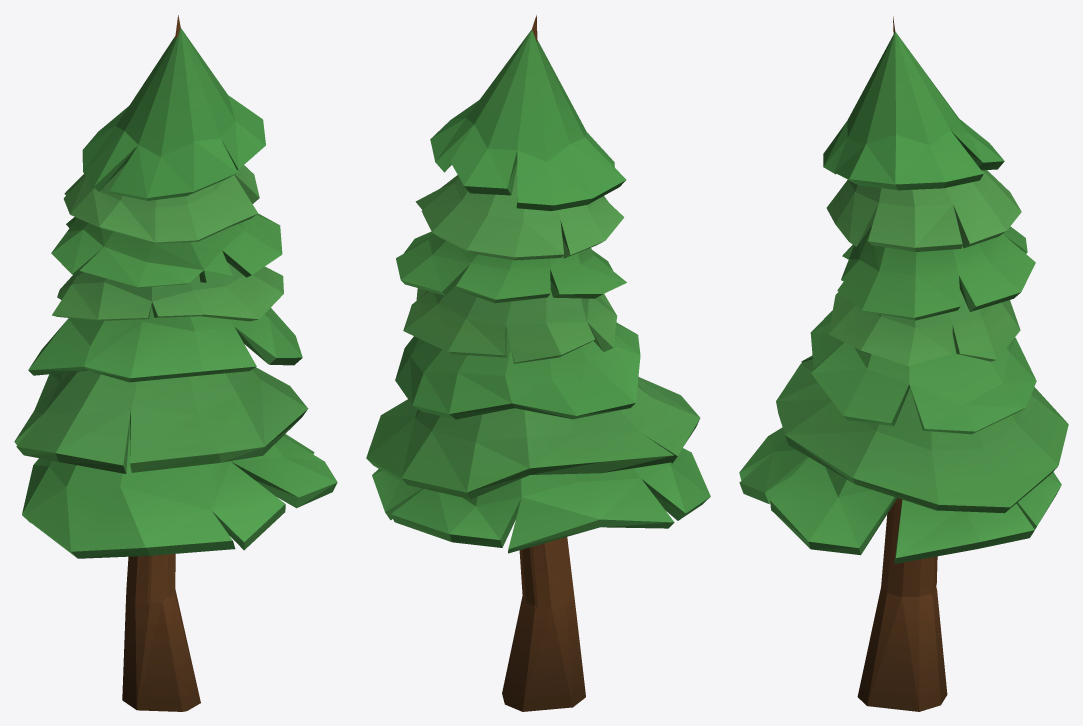
File: tree_fir.glb
3 renders of one model, left to right at view 1: azimuth 30°, elevation 25°; view 2: azimuth 150°, elevation 25°; view 3: azimuth 270°, elevation 25°, orthographic.
Parts seen in each view (by area): view 1: Conifer Tree_2_AA; view 2: Conifer Tree_2_AA; view 3: Conifer Tree_2_AA.
Boxes of the visible parts, x1,y1,x2,y2 form: Conifer Tree_2_AA: (14,15,337,711); Conifer Tree_2_AA: (366,15,710,711); Conifer Tree_2_AA: (739,16,1068,711).
Bounding box in the file's own units: 1.75 × 3.92 × 1.7.
1 material, 1 textured.
